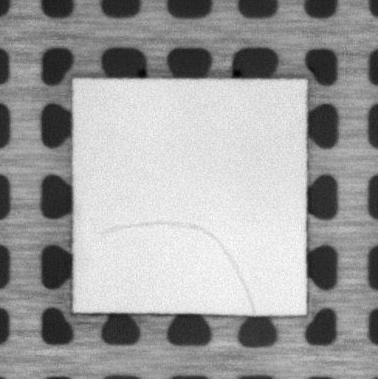DIE_CRACK: (102, 215, 256, 310)
